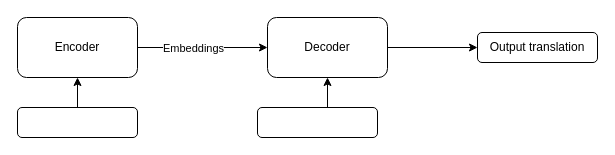
This 615x155 diagram has some shape labels left out. The shapes that lost their labels are listed below. From the top down, each one's box as (x1, y1, x2, y2) in pixels, then its label:
(16, 106, 138, 138): Input english text
(256, 106, 378, 138): Input german text
